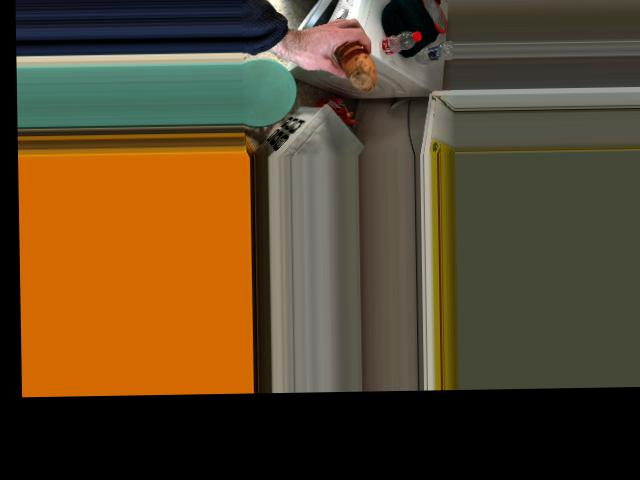sweet_potato: (334, 38, 378, 82)
